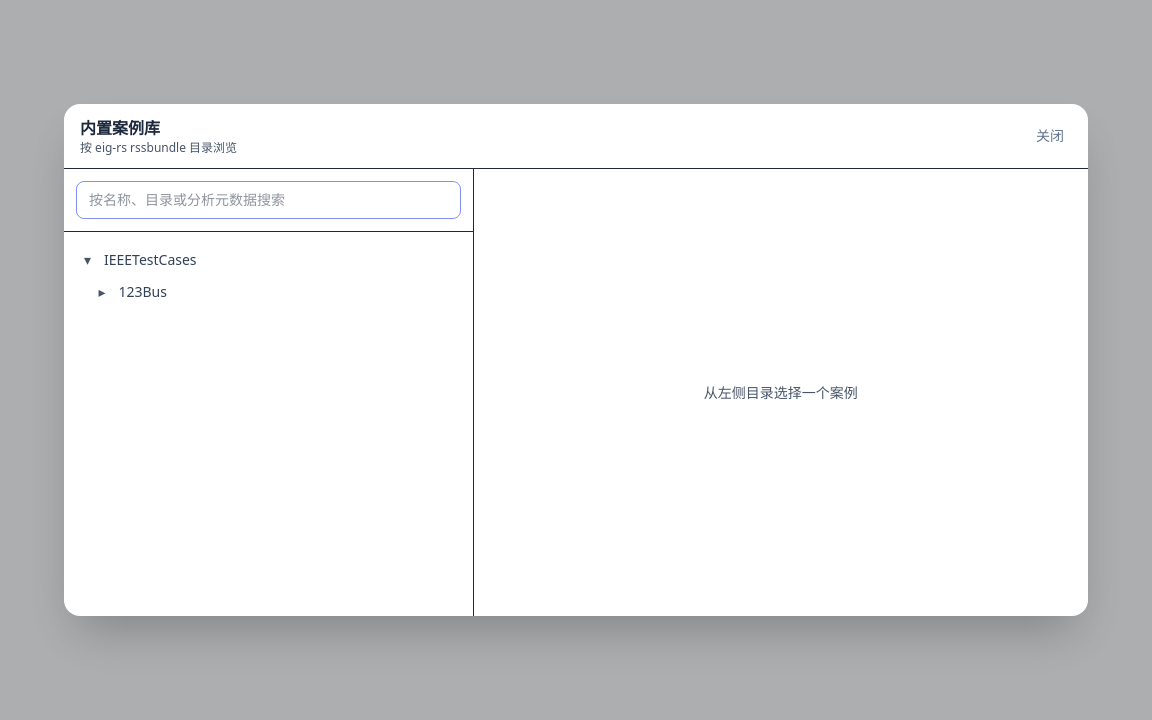
Test case: ExampleLibrary › searches remotely and expands every returned ancestor
Expected: the button "▾ IEEETestCases" is shown, [76,244,461,276]
Type "voltage" into the field named "搜索内置案例". click: (268, 200)
box: [76,181,461,219]
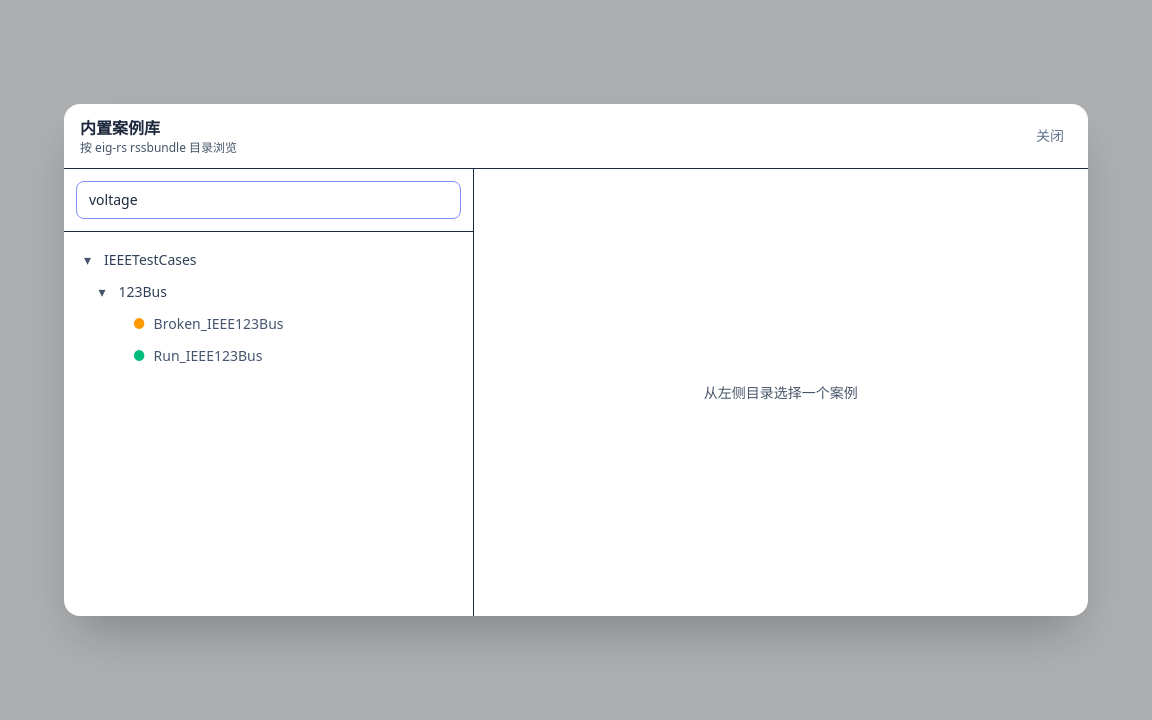
Now the button "● Run_IEEE123Bus" is shown, box [76,340,461,372]
